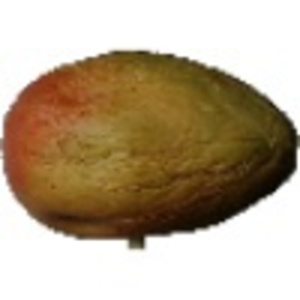mamão: (2, 46, 295, 239)
